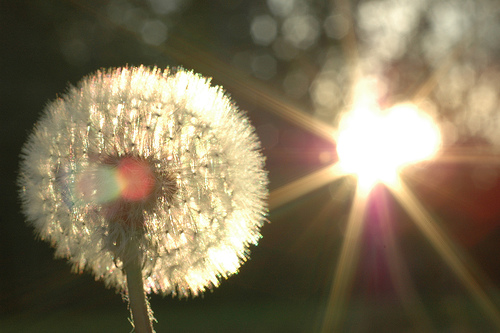dandelion: (9, 43, 281, 326)
